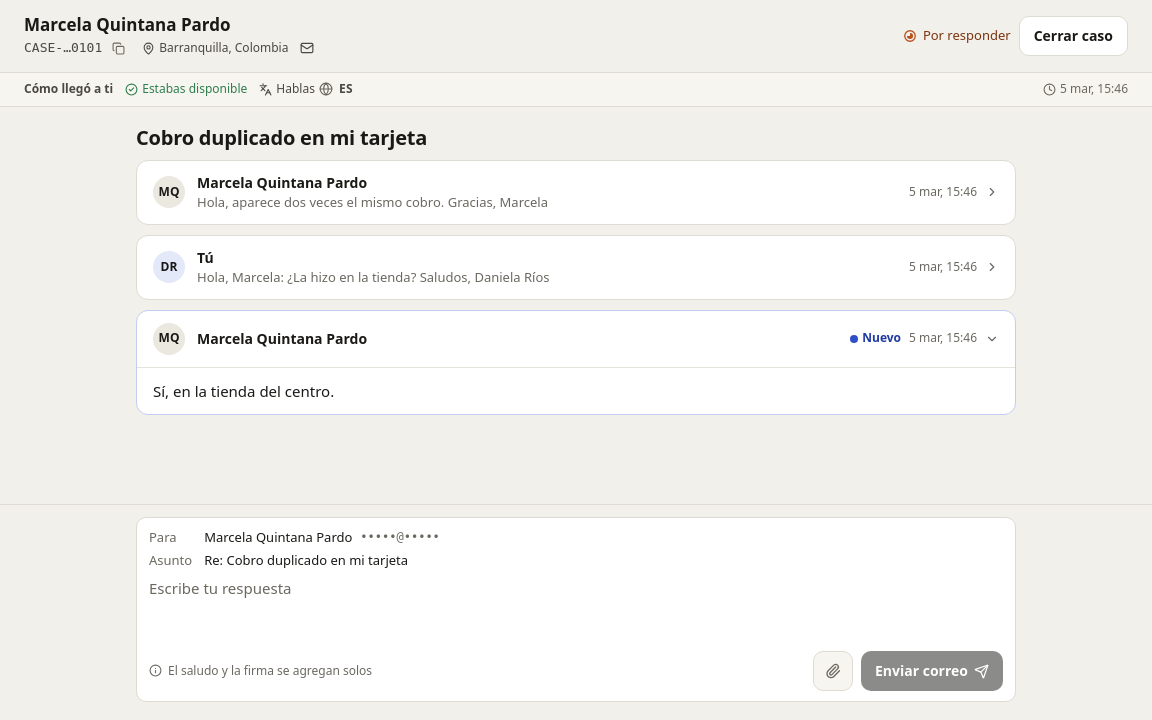
Test case: ConversationPane · email (slice 12) › shows the thread: subject, older emails folded, the new one marked and open
The image size is (1152, 720).
Expected: the heading "Cobro duplicado en mi tarjeta" is shown, left=136, top=124, right=427, bottom=151
Expected: the element named "Correo de Marcela Quintana Pardo" shows "Nuevo", left=137, top=311, right=1015, bottom=367
Click the button that starts with "Marcela Quintana Pardo".
click(169, 192)  # box left=137, top=161, right=1015, bottom=224
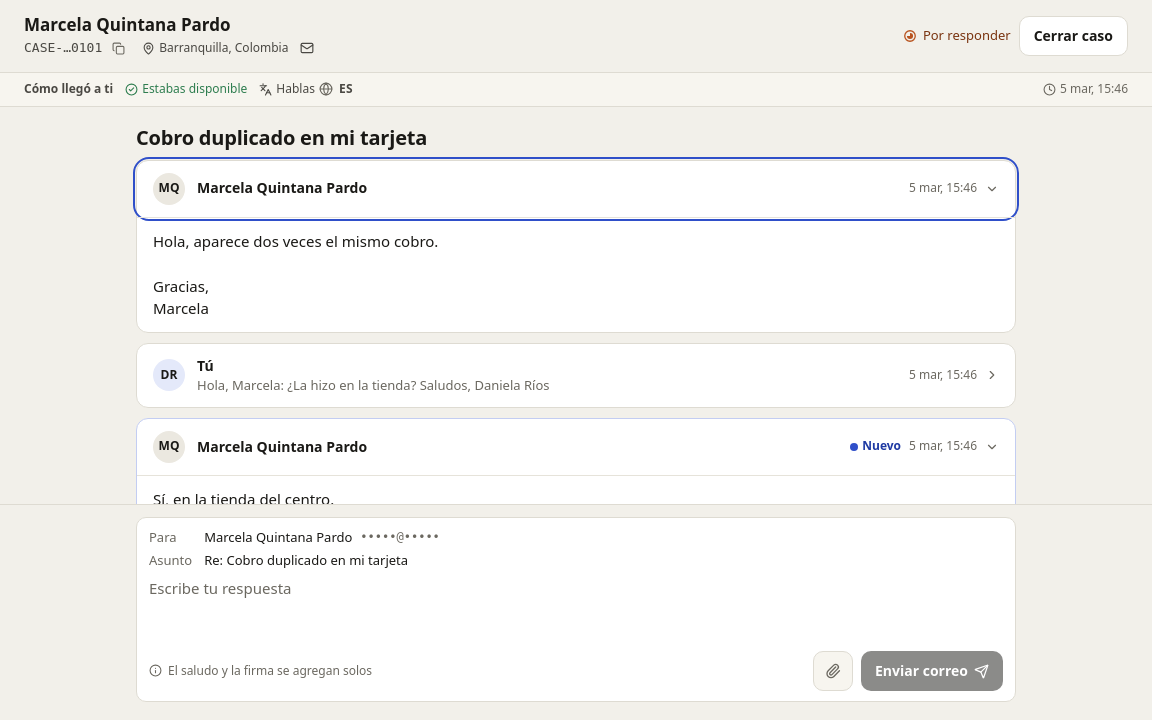
Expected: the button "MQ Marcela Quintana Pardo 5 mar, 15:46" is expanded, left=137, top=161, right=1015, bottom=217
